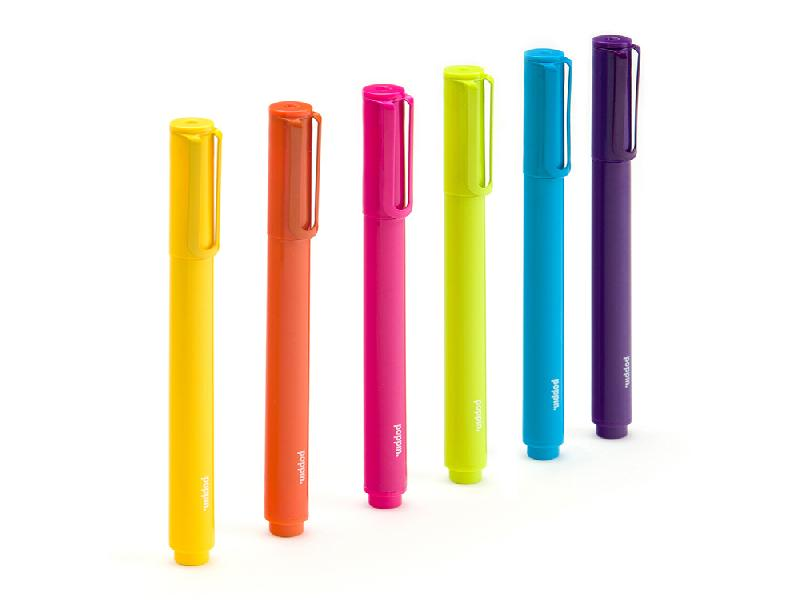pen: (256, 94, 327, 545), (352, 81, 422, 513), (162, 112, 227, 572), (435, 63, 501, 495), (584, 32, 646, 447), (517, 46, 575, 467)
